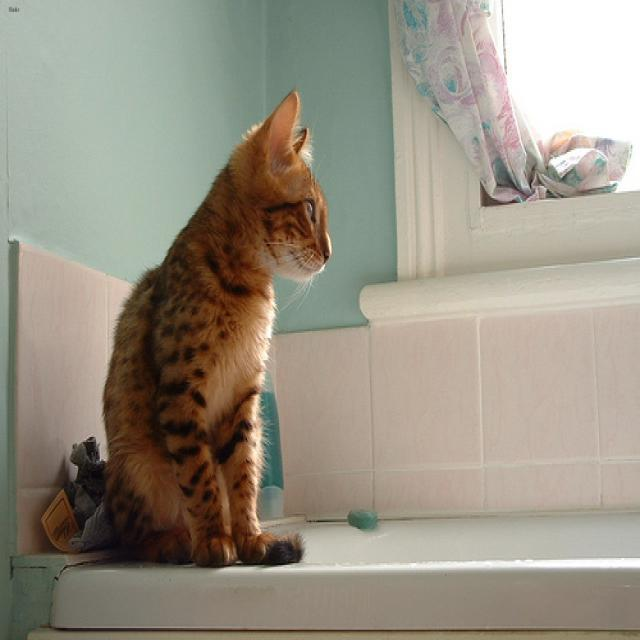Bengal: (230, 91, 334, 291)
